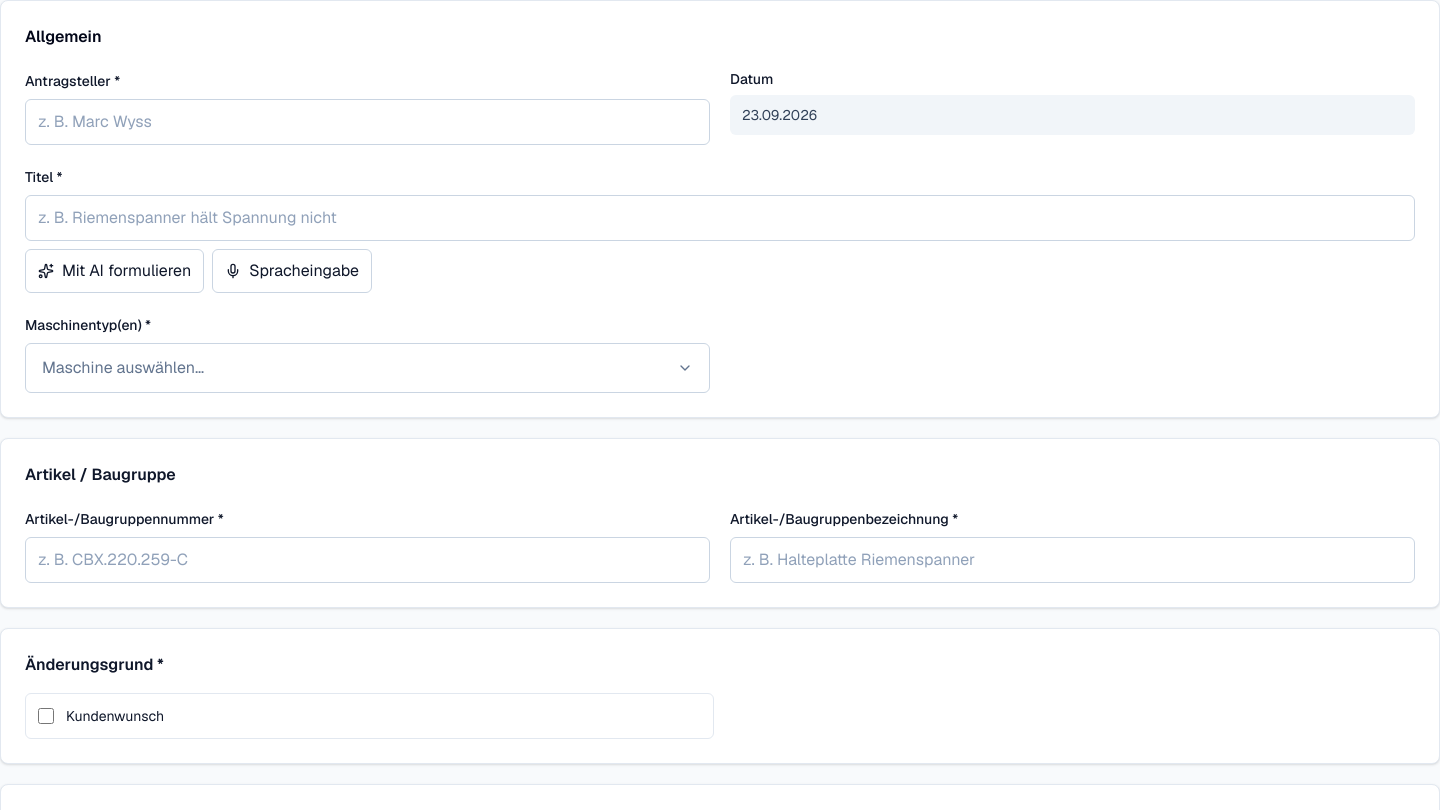
it: Fehlende Maschine nacherfassen › erkennt WR-600 als neu, obwohl WR-600 V im Katalog steht
This screenshot has width=1440, height=810.
Click the button "Maschine auswählen…" at (123, 368), box [34, 352, 701, 384]
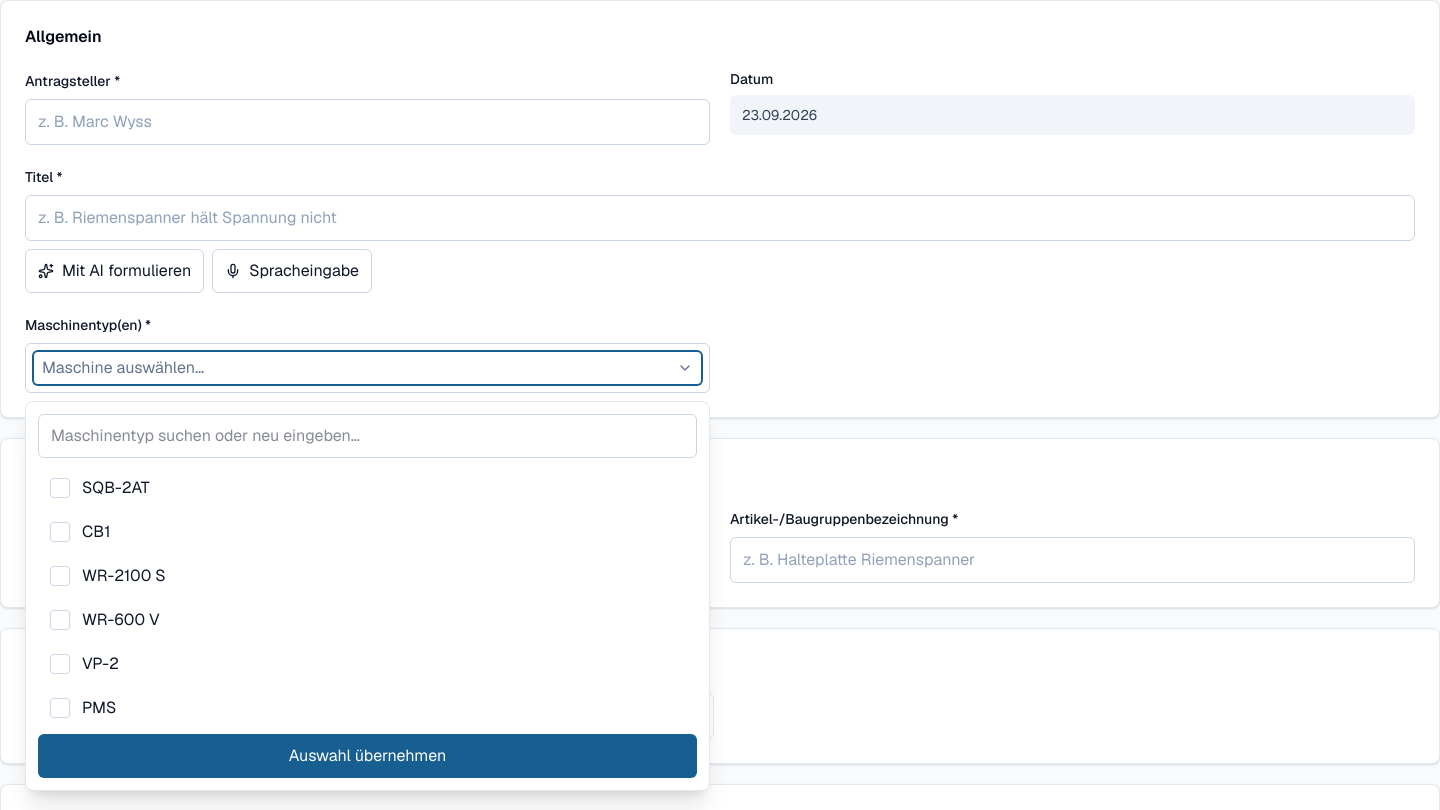
Type "WR-600" into the field labelled "Maschinentyp suchen oder neu eingeben…" at (368, 436), box [38, 414, 697, 458]
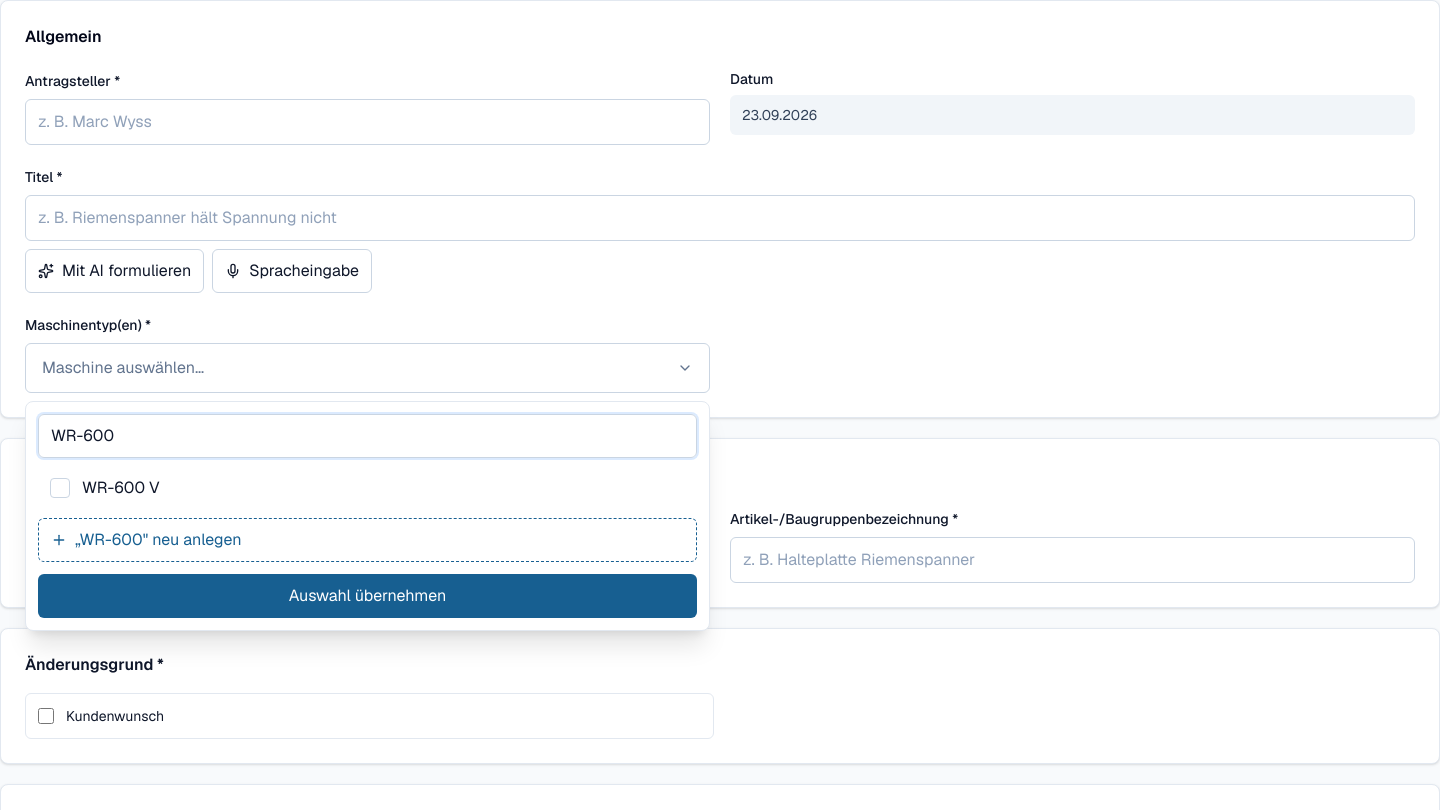
Check: the button "„WR-600\" neu anlegen" is shown, box [38, 518, 697, 562]
